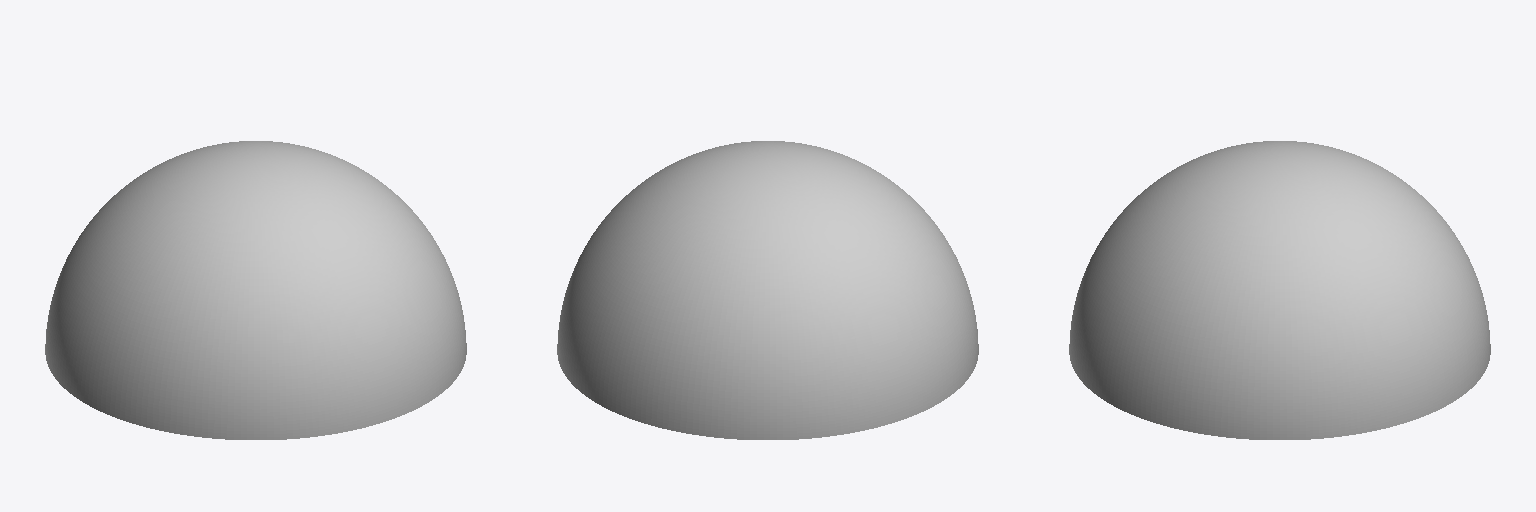
Rendered from sky.obj.
3 renders of one model, left to right at view 1: azimuth 30°, elevation 25°; view 2: azimuth 150°, elevation 25°; view 3: azimuth 270°, elevation 25°, orthographic.
Visible parts, largest first — view 1: pSphere1; view 2: pSphere1; view 3: pSphere1.
Boxes of the visible parts, x1,y1,x2,y2 form: pSphere1: [45, 141, 466, 439]; pSphere1: [557, 141, 978, 439]; pSphere1: [1069, 141, 1490, 439].
Bounding box in the file's own units: 2 × 1 × 2.